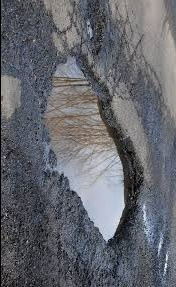pothole: (50, 31, 134, 272), (77, 2, 102, 59), (1, 75, 23, 119)
